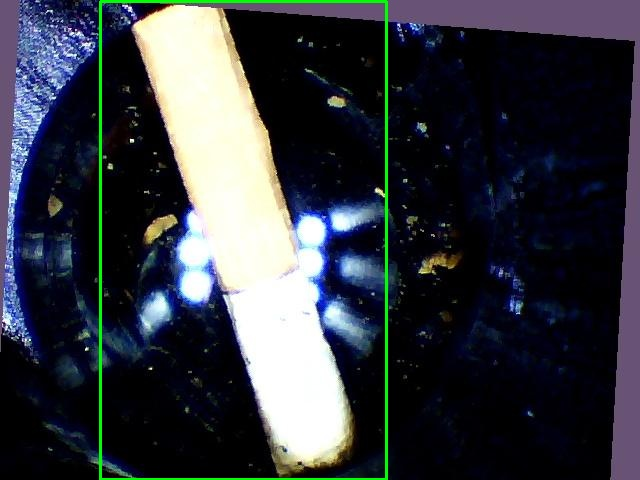megot: (100, 1, 386, 479)
